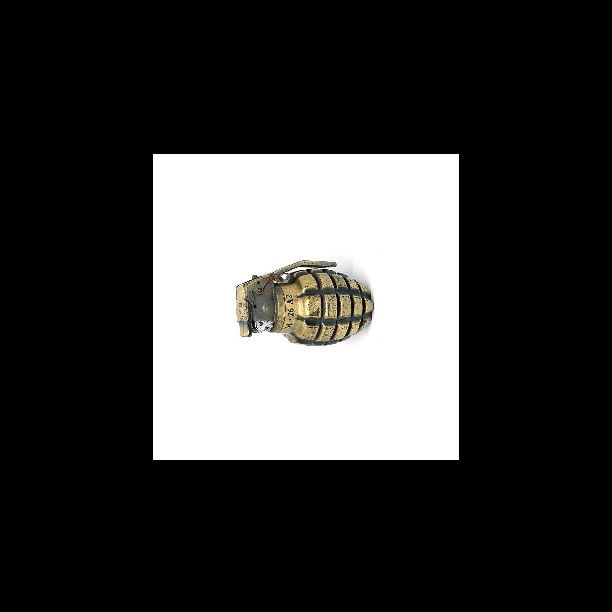e1: (234, 258, 374, 345)
